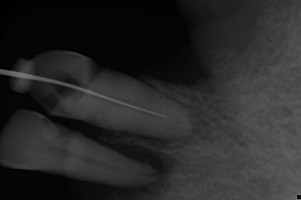Dental Caries: (66, 101, 220, 200)
